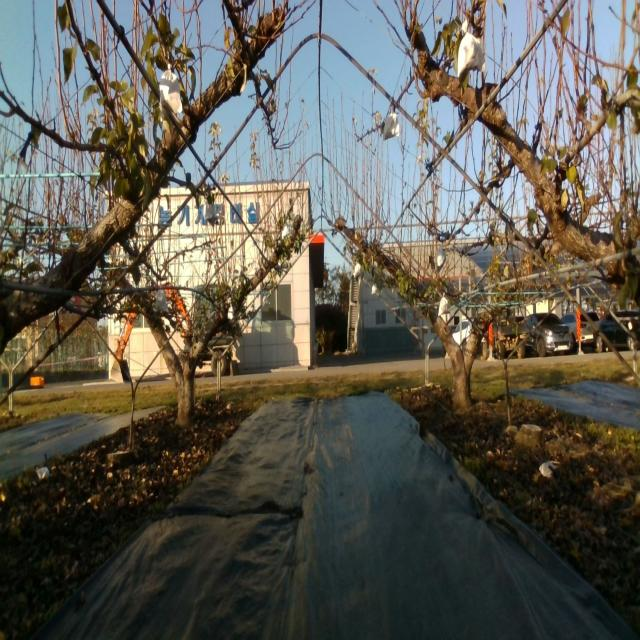pearbags: (457, 21, 485, 73), (158, 64, 180, 114), (383, 104, 399, 141), (437, 291, 451, 318), (154, 288, 168, 314), (203, 203, 216, 225), (436, 246, 446, 272)
